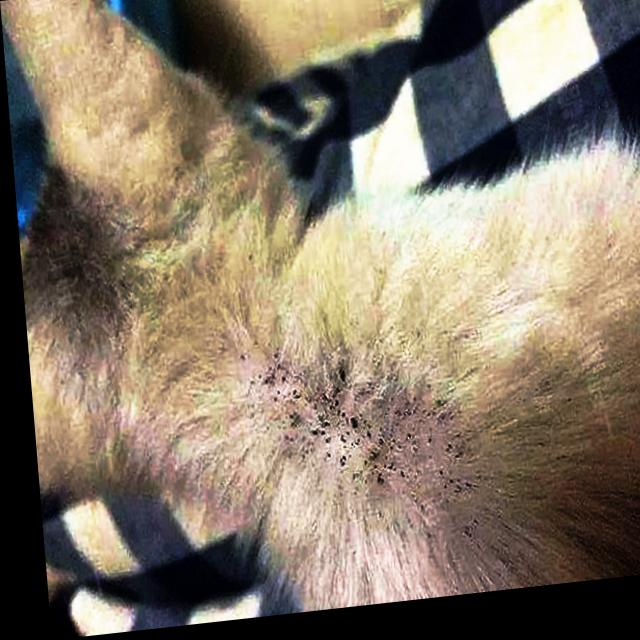acne: (259, 361, 473, 493)
